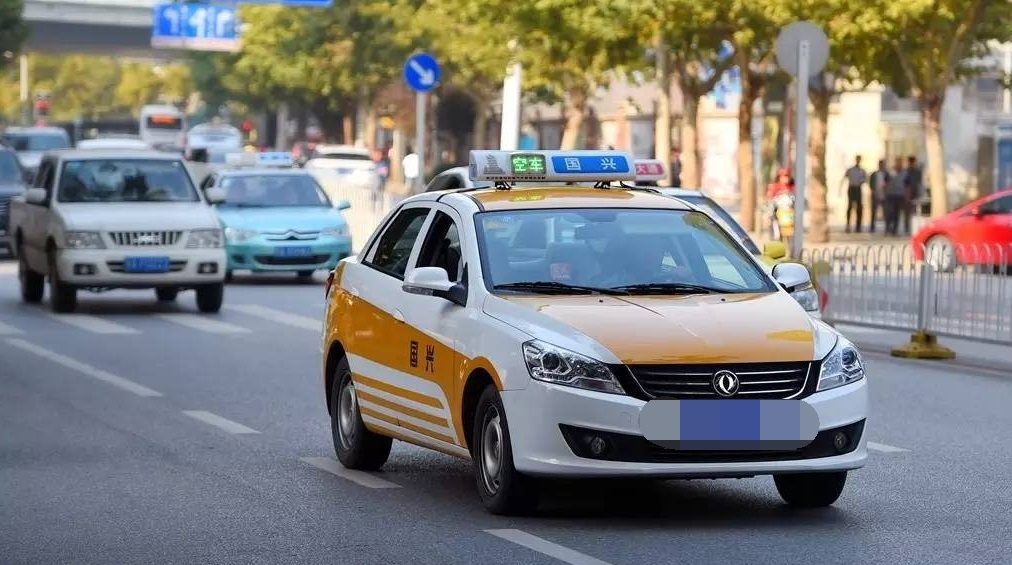taxi: (317, 155, 872, 524)
